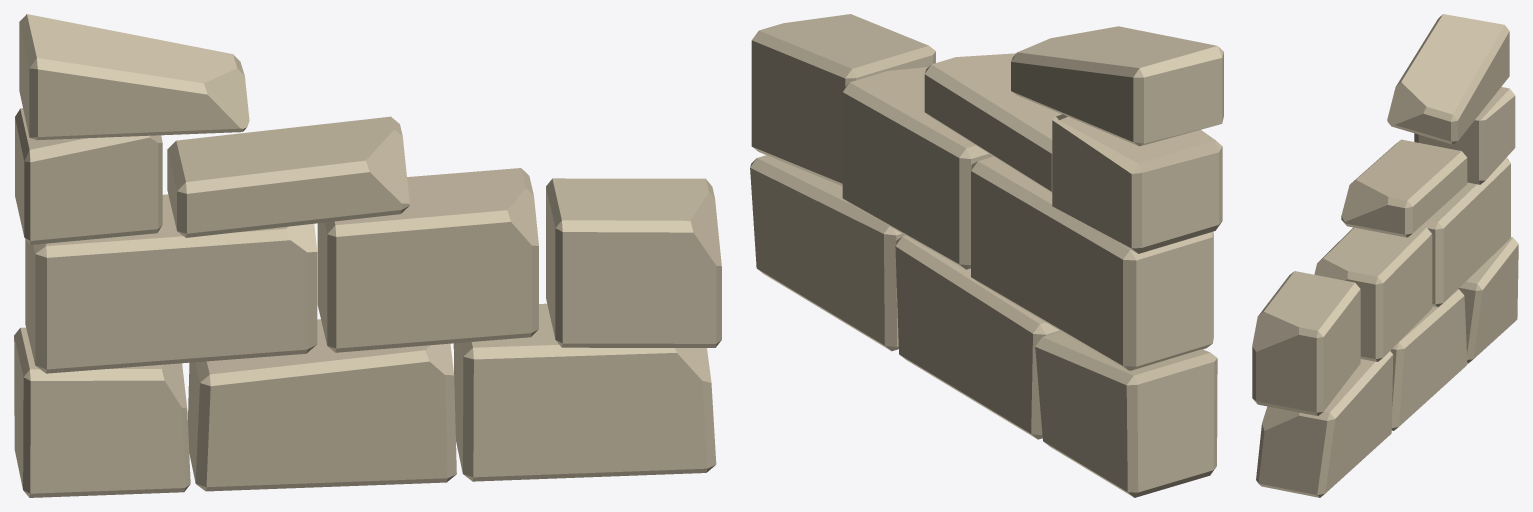
File: Ruin_BrokenWall_A_Detail_v1.glb
3 renders of one model, left to right at view 1: azimuth 30°, elevation 25°; view 2: azimuth 150°, elevation 25°; view 3: azimuth 270°, elevation 25°, orthographic. The views are drawn at different scales.
Visible parts, largest first — view 1: Ruin_BrokenWall_A_Detail_v1; view 2: Ruin_BrokenWall_A_Detail_v1; view 3: Ruin_BrokenWall_A_Detail_v1.
Part boxes in pixels (x1,y1,x2,y2): Ruin_BrokenWall_A_Detail_v1: (14, 14, 721, 497); Ruin_BrokenWall_A_Detail_v1: (750, 14, 1223, 497); Ruin_BrokenWall_A_Detail_v1: (1252, 14, 1518, 497).
Bounding box in the file's own units: 7.72 × 5.61 × 4.53.
